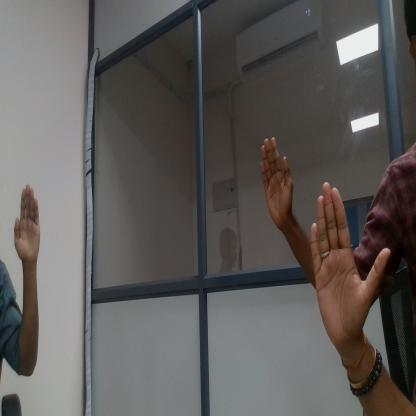Stop: (309, 177, 369, 337), (248, 133, 296, 228), (16, 172, 42, 268)
